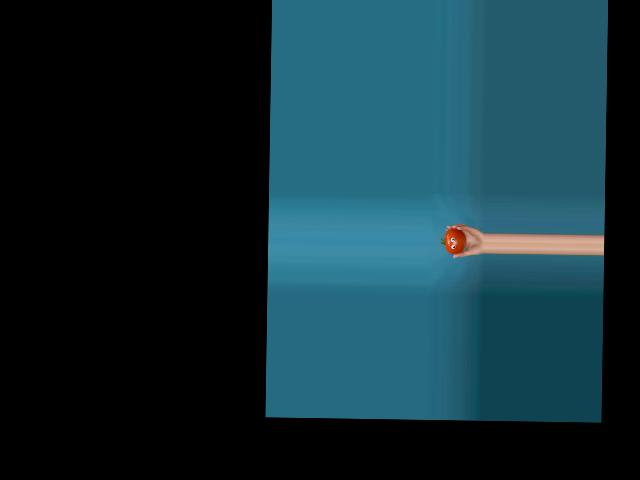tomato: (444, 228, 467, 255)
